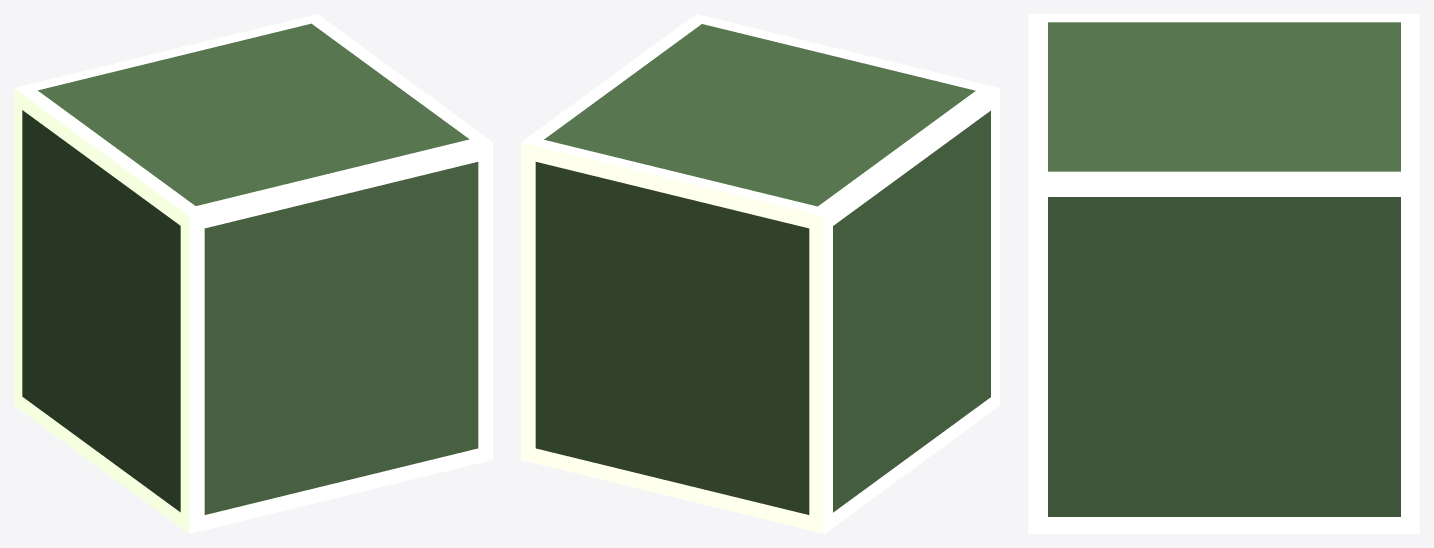
The model's file is bigCube.fbx.
3 views of the same model, side by side, from view 1: azimuth 30°, elevation 25°; view 2: azimuth 150°, elevation 25°; view 3: azimuth 270°, elevation 25° (orthographic). The views are drawn at different scales.
Visible parts, largest first — view 1: Cube; view 2: Cube; view 3: Cube.
Part boxes in pixels (x1,y1,x2,y2): Cube: [14, 14, 492, 533]; Cube: [521, 14, 999, 533]; Cube: [1028, 14, 1419, 533].
Bounding box in the file's own units: 1400 × 1400 × 1400.
